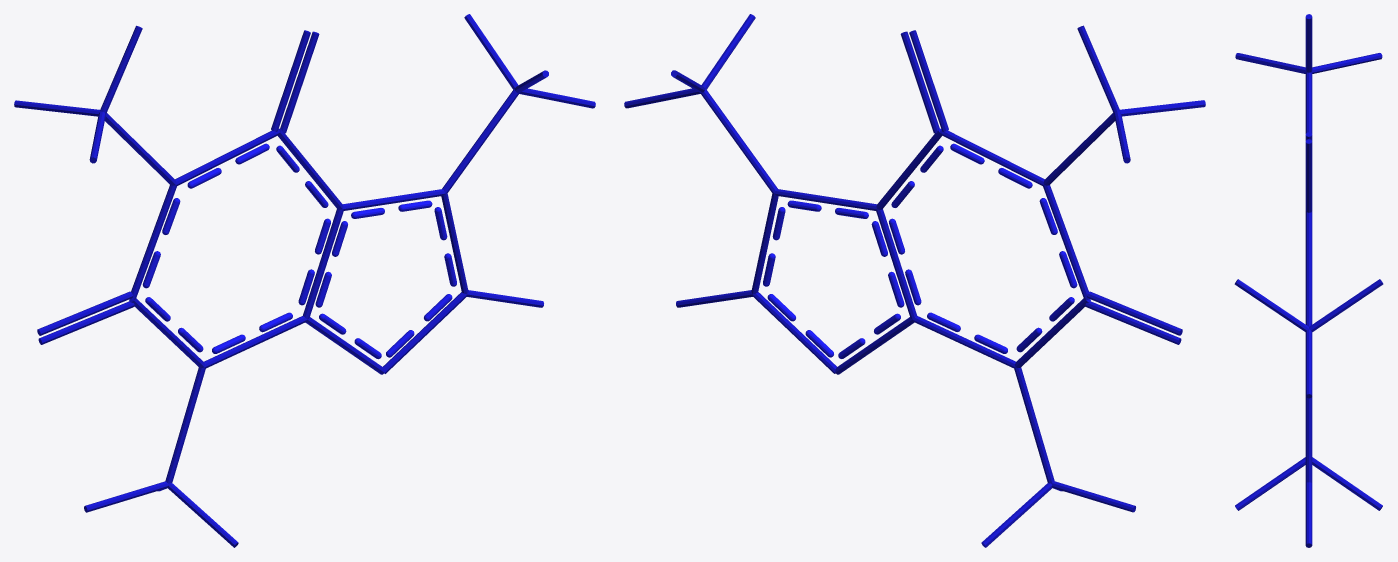
Rendered from caffeine__lines__b-factor.glb.
3 views of the same model, side by side, from view 1: azimuth 30°, elevation 25°; view 2: azimuth 150°, elevation 25°; view 3: azimuth 270°, elevation 25° (orthographic). The views are drawn at different scales.
Visible parts, largest first — view 1: Renderer Node; view 2: Renderer Node; view 3: Renderer Node.
Part boxes in pixels (bbox=[...]): Renderer Node: bbox=[14, 14, 595, 547]; Renderer Node: bbox=[624, 14, 1205, 547]; Renderer Node: bbox=[1234, 14, 1383, 547].
Size of the model in its own units: 7.36 by 6.42 by 1.85.
